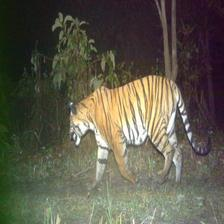tiger: (64, 72, 213, 190)
